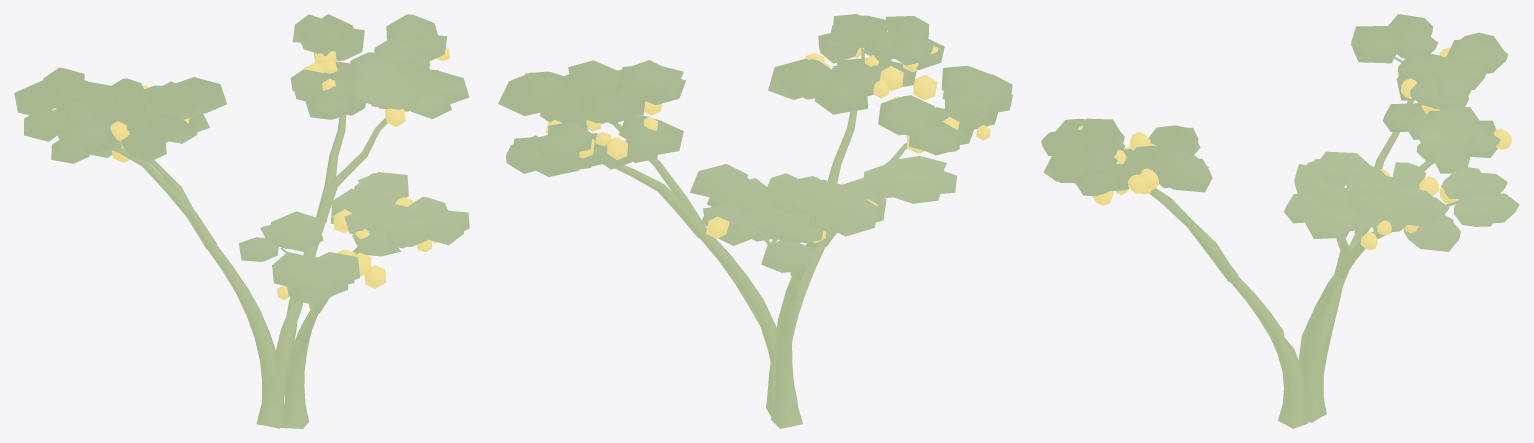
Rendered from Blender_Palo_1_Far.glb.
3 renders of one model, left to right at view 1: azimuth 30°, elevation 25°; view 2: azimuth 150°, elevation 25°; view 3: azimuth 270°, elevation 25°, orthographic. The views are drawn at different scales.
Parts seen in each view (by area): view 1: Blender_Palo_1_Far; view 2: Blender_Palo_1_Far; view 3: Blender_Palo_1_Far.
Boxes of the visible parts, bbox=[...] form: Blender_Palo_1_Far: bbox=[14, 14, 469, 428]; Blender_Palo_1_Far: bbox=[498, 14, 1012, 428]; Blender_Palo_1_Far: bbox=[1041, 14, 1519, 428].
Bounding box in the file's own units: 7.86 × 6.02 × 8.
